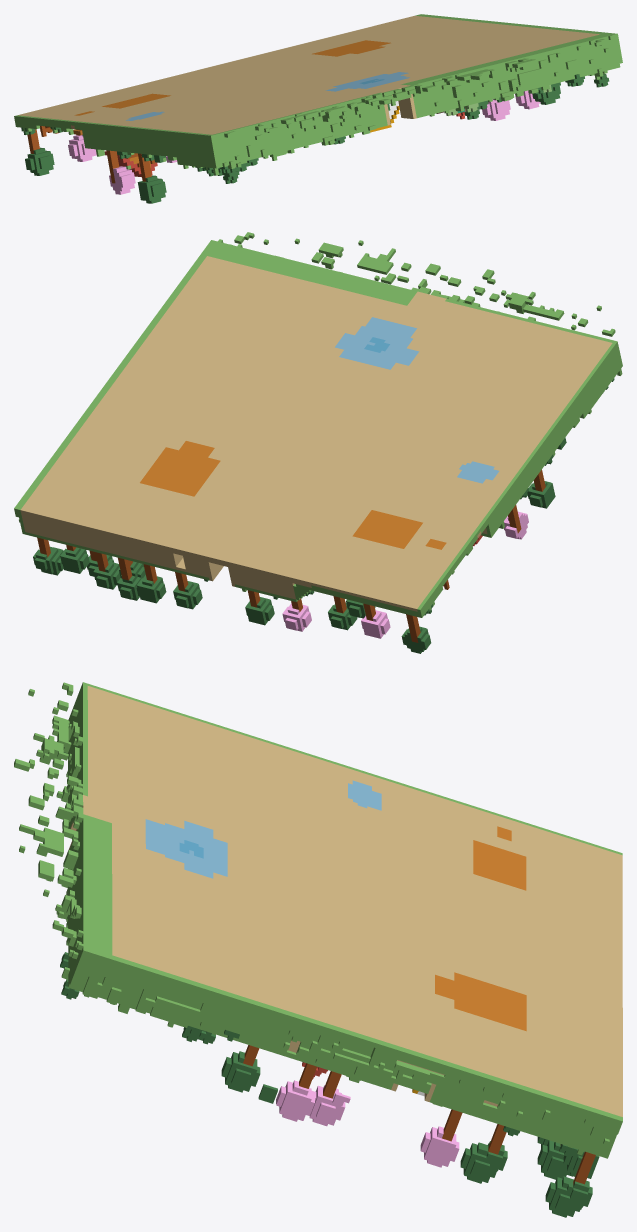
The model's file is thisstar.gltf.
The picture shows the model from 3 angles, top to bottom: view 1: azimuth 30°, elevation 25°; view 2: azimuth 150°, elevation 25°; view 3: azimuth 270°, elevation 25°; orthographic projection. The views are drawn at different scales.
Parts seen in each view (by area): view 1: Mesh_0; view 2: Mesh_0; view 3: Mesh_0.
Boxes of the visible parts, x1=… form: Mesh_0: x1=14, y1=14, x2=622, y2=203; Mesh_0: x1=14, y1=232, x2=622, y2=653; Mesh_0: x1=14, y1=682, x2=622, y2=1217.
Size of the model in its own units: 126 by 65.16 by 119.
1 material, 1 textured.
